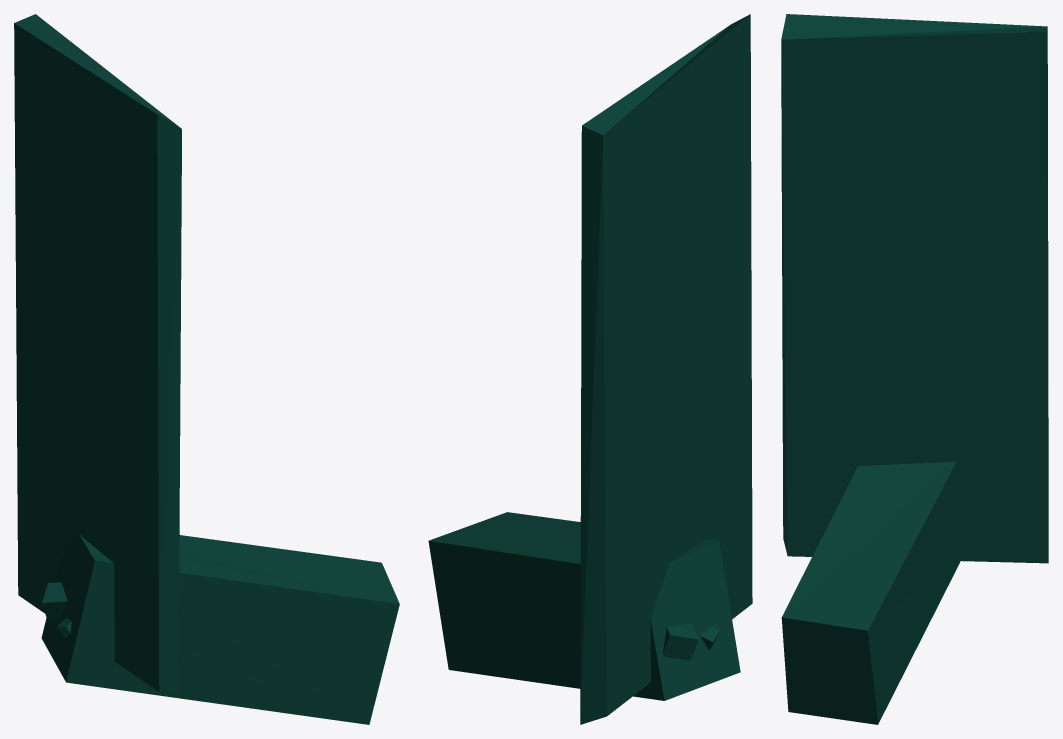
The picture shows the model from 3 angles, left to right: view 1: azimuth 30°, elevation 25°; view 2: azimuth 150°, elevation 25°; view 3: azimuth 270°, elevation 25°; orthographic projection. The views are drawn at different scales.
Parts seen in each view (by area): view 1: 059_Cube.242; view 2: 059_Cube.242; view 3: 059_Cube.242.
Boxes of the visible parts, bbox=[...] form: 059_Cube.242: bbox=[14, 14, 399, 724]; 059_Cube.242: bbox=[428, 14, 752, 724]; 059_Cube.242: bbox=[781, 14, 1048, 724].
Size of the model in its own units: 6.72 by 13.73 by 5.52.
